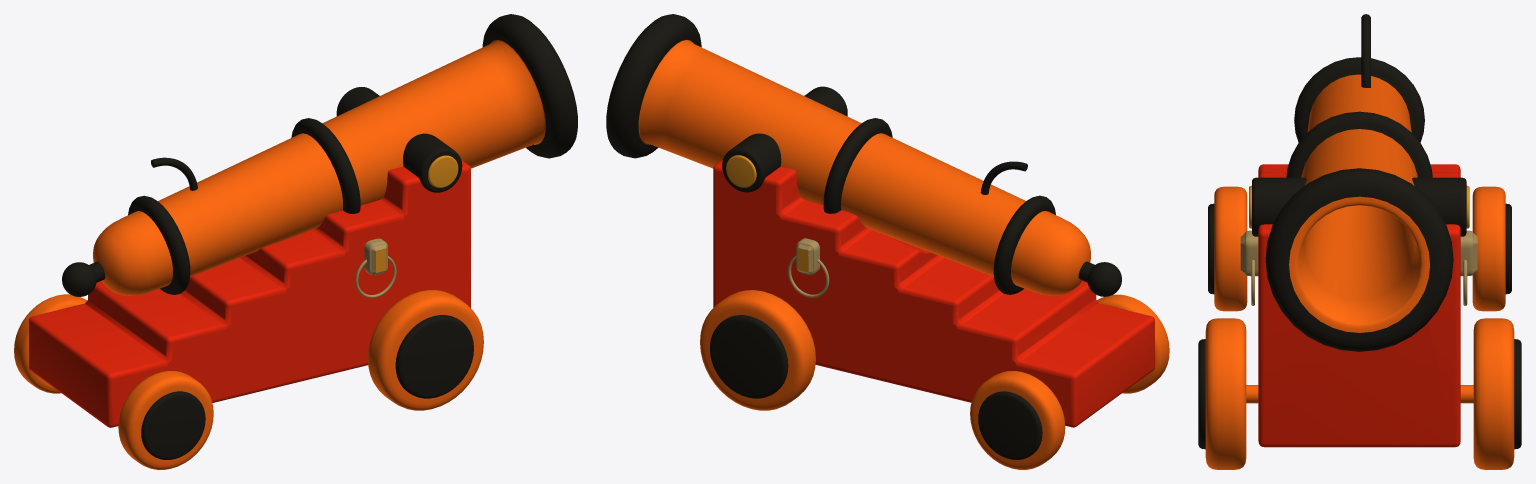
3 views of the same model, side by side, from view 1: azimuth 30°, elevation 25°; view 2: azimuth 150°, elevation 25°; view 3: azimuth 270°, elevation 25° (orthographic). The views are drawn at different scales.
Parts seen in each view (by area): view 1: Box005, Cylinder028, Group032, Cylinder030, Group034, Cylinder031, Group035, Cylinder032, Cylinder035, Sphere005, Group036, Cylinder033 (+1 smaller); view 2: Box005, Cylinder028, Group032, Cylinder034, Group038, Cylinder035, Group039, Cylinder033, Cylinder031, Sphere005, Group037, Cylinder032 (+1 smaller); view 3: Box005, Cylinder028, Group032, Cylinder034, Cylinder030, Cylinder035, Cylinder031, Cylinder032, Cylinder033, Group034, Group038, Box006 (+4 smaller).
Boxes of the visible parts, left/top/right/bottom form: Box005: left=29, top=160, right=470, bottom=427; Cylinder028: left=93, top=39, right=545, bottom=295; Group032: left=128, top=14, right=577, bottom=294; Cylinder030: left=368, top=290, right=483, bottom=410; Group034: left=395, top=315, right=473, bottom=398; Cylinder031: left=118, top=371, right=213, bottom=469; Group035: left=141, top=391, right=205, bottom=459; Cylinder032: left=403, top=133, right=462, bottom=192; Cylinder035: left=14, top=294, right=86, bottom=393; Sphere005: left=62, top=261, right=105, bottom=296; Group036: left=428, top=155, right=458, bottom=187; Cylinder033: left=336, top=87, right=379, bottom=116; Box005: left=713, top=159, right=1154, bottom=427; Cylinder028: left=638, top=39, right=1090, bottom=295; Group032: left=606, top=14, right=1055, bottom=294; Cylinder034: left=700, top=290, right=815, bottom=410; Group038: left=710, top=315, right=788, bottom=398; Cylinder035: left=970, top=371, right=1065, bottom=469; Group039: left=978, top=391, right=1042, bottom=459; Cylinder033: left=722, top=133, right=781, bottom=192; Cylinder031: left=1097, top=294, right=1169, bottom=393; Sphere005: left=1078, top=261, right=1121, bottom=296; Group037: left=726, top=155, right=756, bottom=187; Cylinder032: left=804, top=86, right=847, bottom=116; Box005: left=1258, top=164, right=1460, bottom=447; Cylinder028: left=1289, top=74, right=1429, bottom=332; Group032: left=1265, top=57, right=1453, bottom=351; Cylinder034: left=1460, top=318, right=1514, bottom=469; Cylinder030: left=1205, top=318, right=1258, bottom=469; Cylinder035: left=1472, top=186, right=1505, bottom=311; Cylinder031: left=1214, top=186, right=1247, bottom=311; Cylinder032: left=1252, top=177, right=1306, bottom=236; Cylinder033: left=1412, top=177, right=1466, bottom=236; Group034: left=1198, top=339, right=1205, bottom=449; Group038: left=1514, top=339, right=1521, bottom=449; Box006: left=1240, top=230, right=1258, bottom=276.
Bounding box in the file's own units: 69 × 41.77 × 31.98.
